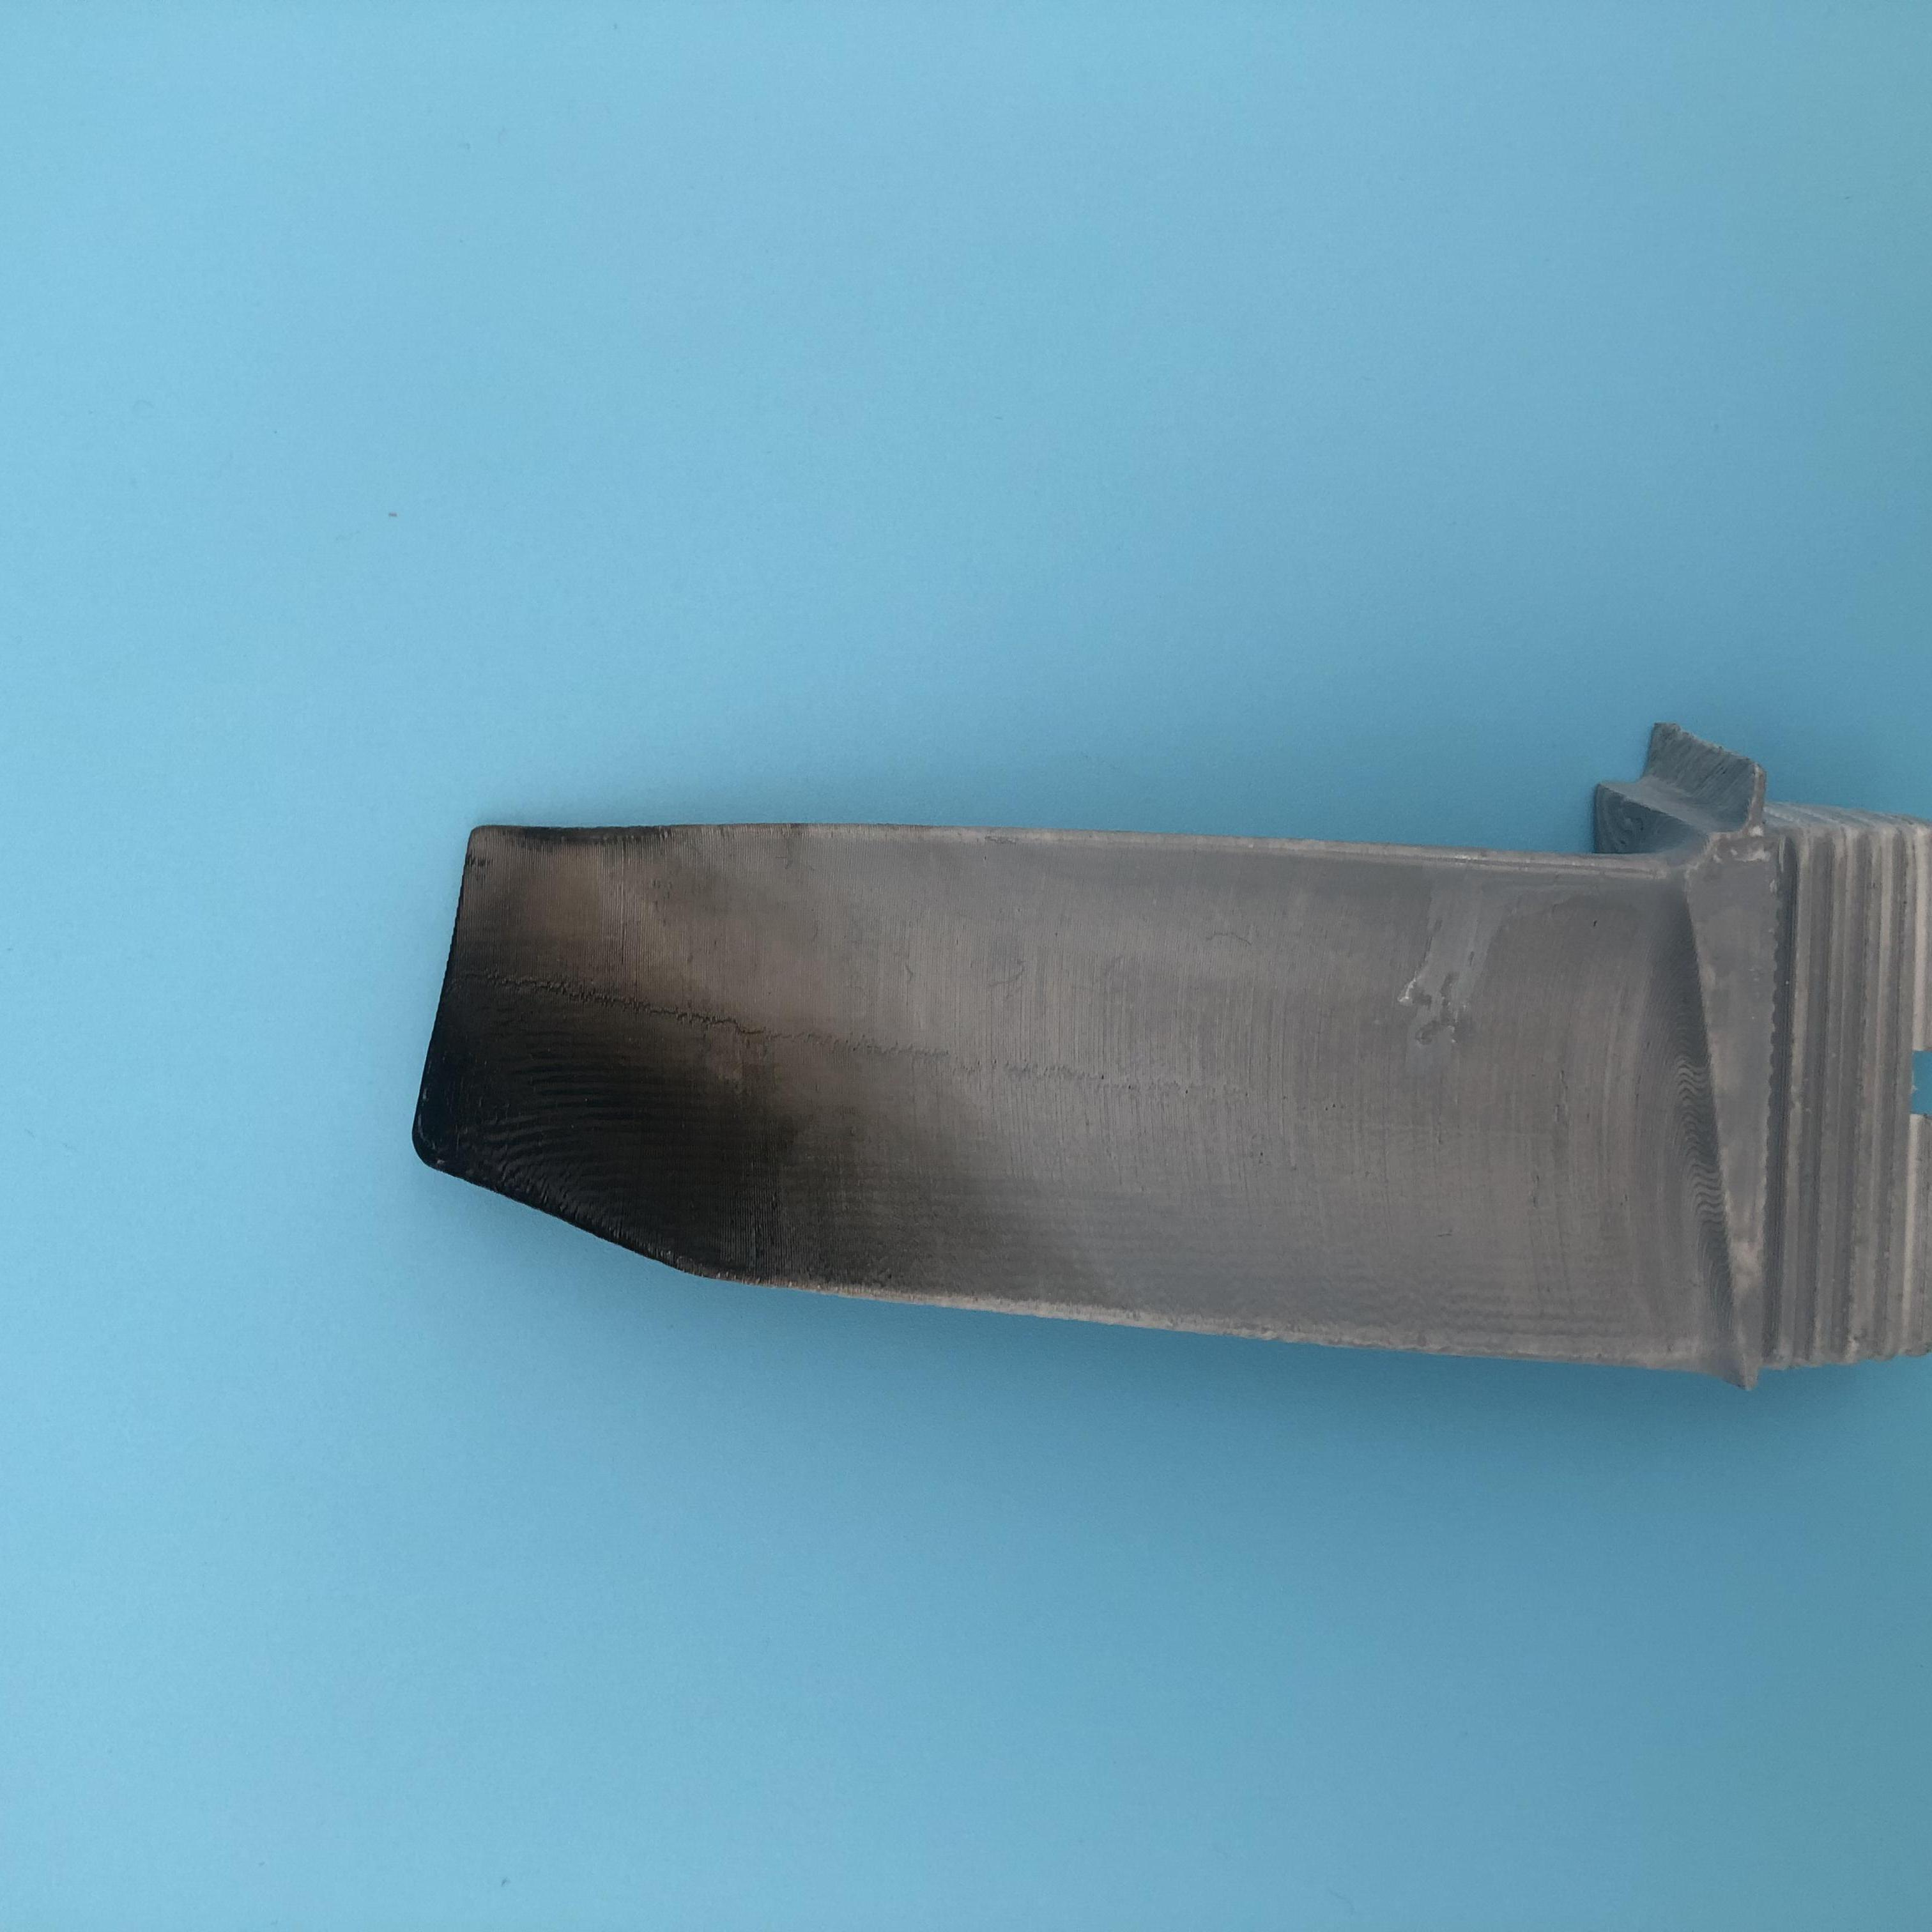ablation: (432, 858, 1024, 1281)
